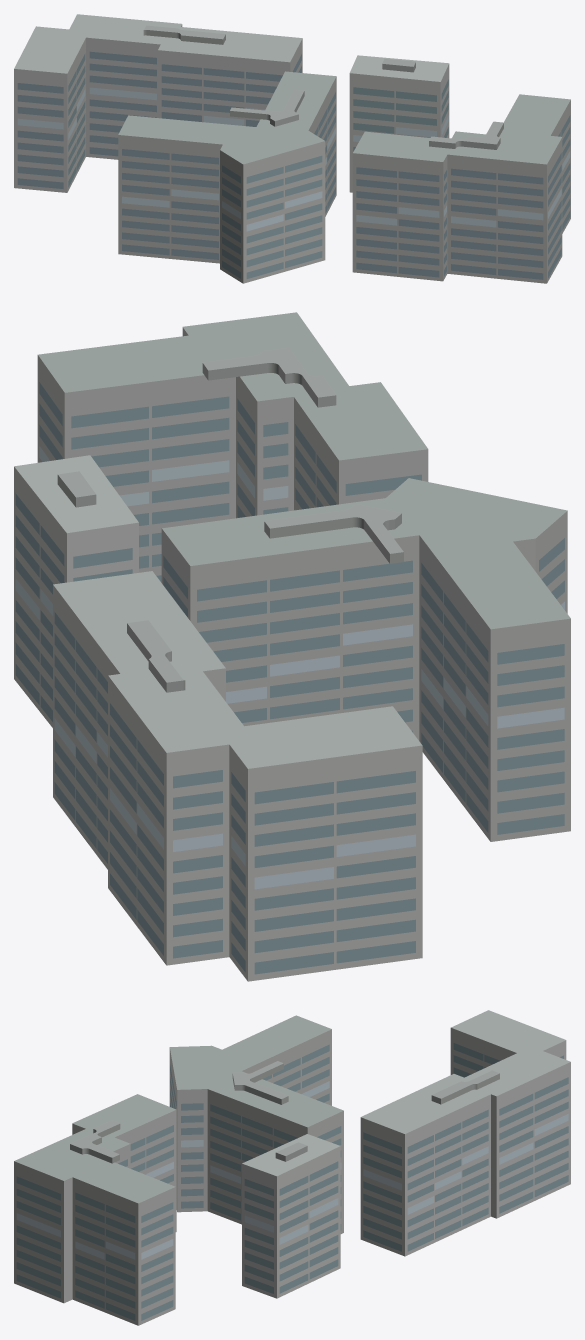
The model's file is apt-a14083101.glb.
3 views of the same model, one above another, from view 1: azimuth 30°, elevation 25°; view 2: azimuth 150°, elevation 25°; view 3: azimuth 270°, elevation 25° (orthographic). The views are drawn at different scales.
Visible parts, largest first — view 1: apt-a14083101; view 2: apt-a14083101; view 3: apt-a14083101.
Boxes of the visible parts, x1,y1,x2,y2 form: apt-a14083101: [14, 14, 570, 283]; apt-a14083101: [14, 312, 570, 981]; apt-a14083101: [14, 1010, 570, 1325].
Bounding box in the file's own units: 97.13 × 30 × 118.
